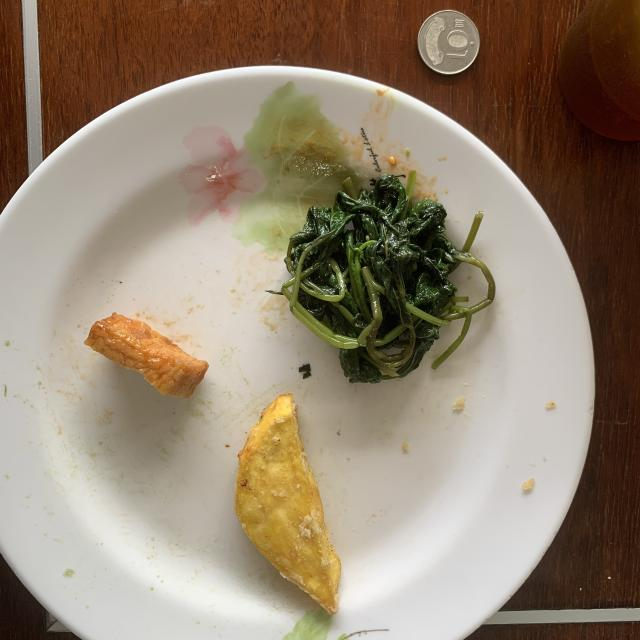coin: (418, 10, 480, 75)
creamy tofu: (85, 312, 209, 399)
sweet potato leaves: (279, 171, 495, 382)
